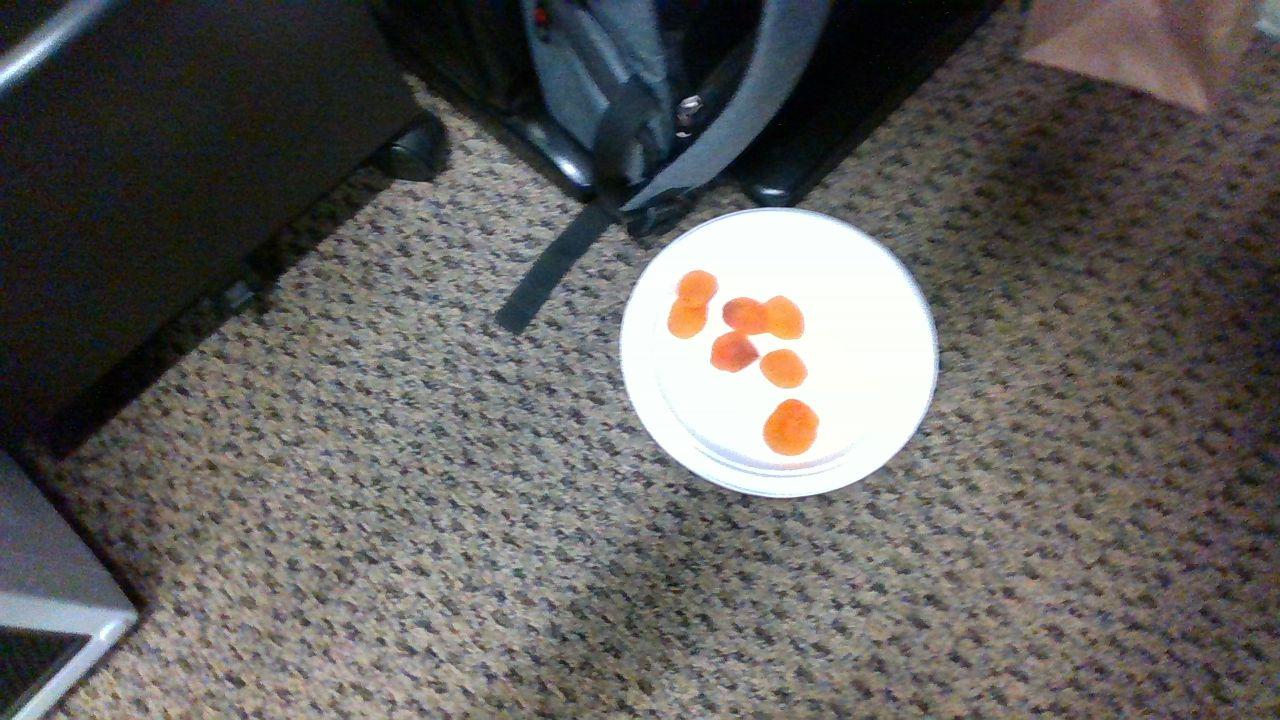apricot: (764, 400, 819, 454), (712, 332, 757, 373), (760, 349, 807, 388), (765, 296, 803, 340), (668, 300, 708, 338), (724, 298, 766, 334), (678, 270, 717, 307)
